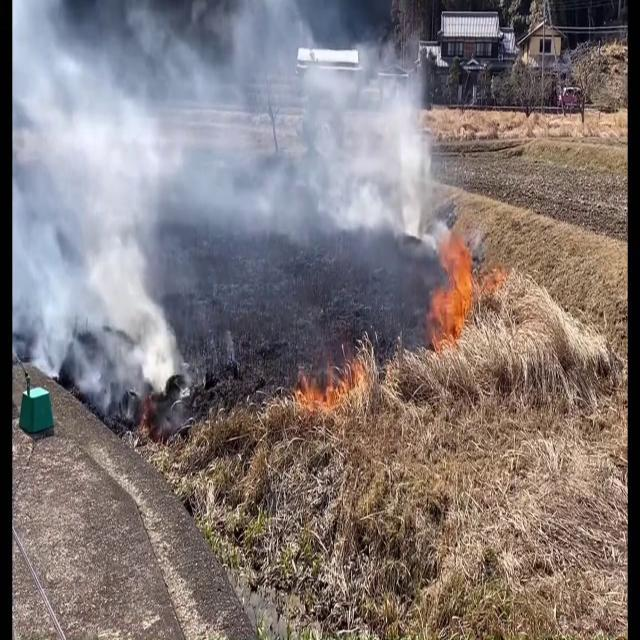Fire: (290, 338, 378, 423), (426, 226, 484, 346)
Smoke: (15, 1, 448, 384)
